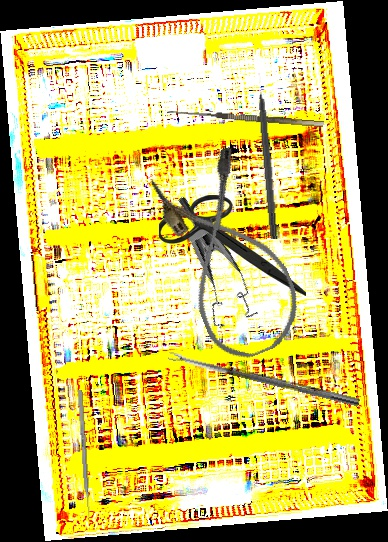Cannula: (146, 144, 313, 369)
Hook Surgical: (166, 107, 324, 136), (255, 72, 280, 240)
Iris Scissors: (159, 195, 306, 296)
Pusher: (77, 389, 92, 524)
Speculum: (134, 194, 278, 341)
Surgical Spoon: (167, 350, 361, 407)
